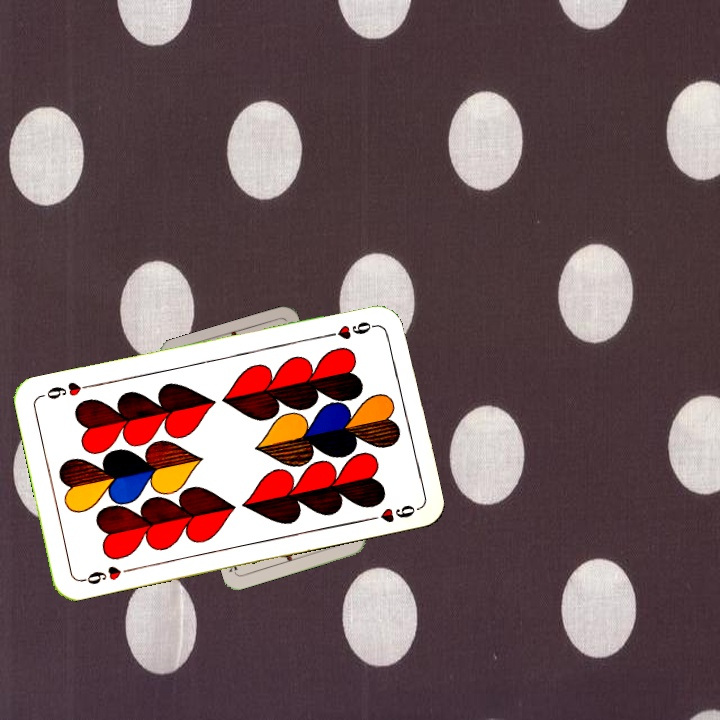H9: (321, 317, 380, 342), (77, 562, 135, 587)
